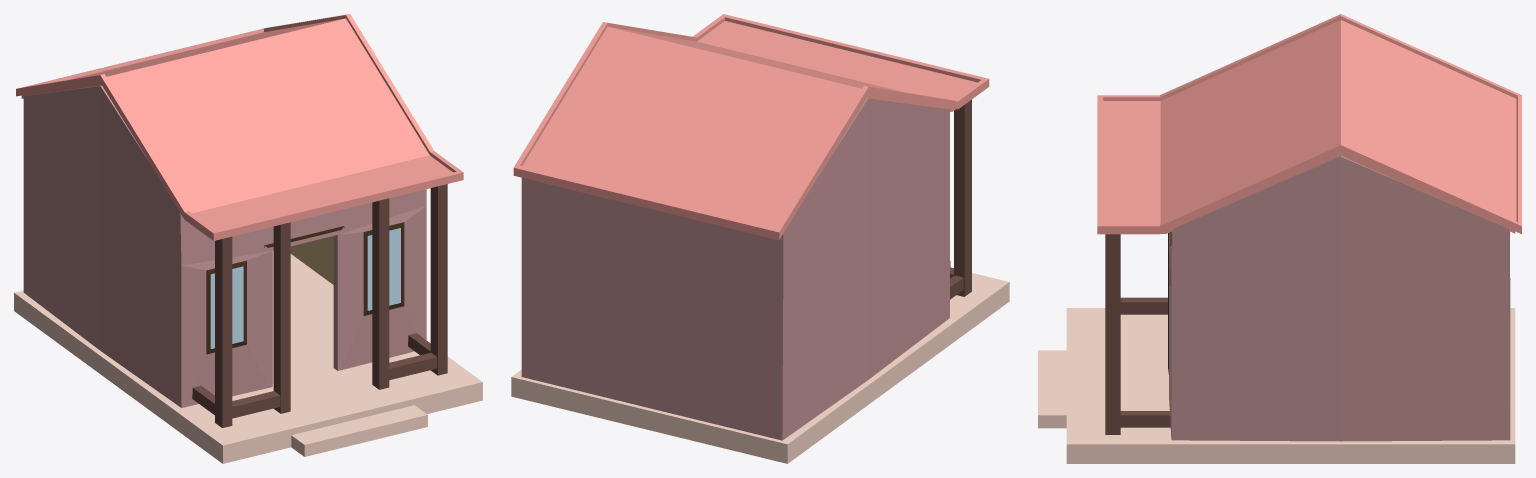
The model's file is REMAKE_pantry_5.fbx.
3 renders of one model, left to right at view 1: azimuth 30°, elevation 25°; view 2: azimuth 150°, elevation 25°; view 3: azimuth 270°, elevation 25°, orthographic. The views are drawn at different scales.
Parts seen in each view (by area): view 1: pantry.001; view 2: pantry.001; view 3: pantry.001.
Part boxes in pixels (x1,y1,x2,y2): pantry.001: (14,14,482,463); pantry.001: (511,14,1009,463); pantry.001: (1038,14,1521,463).
Bounding box in the file's own units: 600 × 649 × 900.
